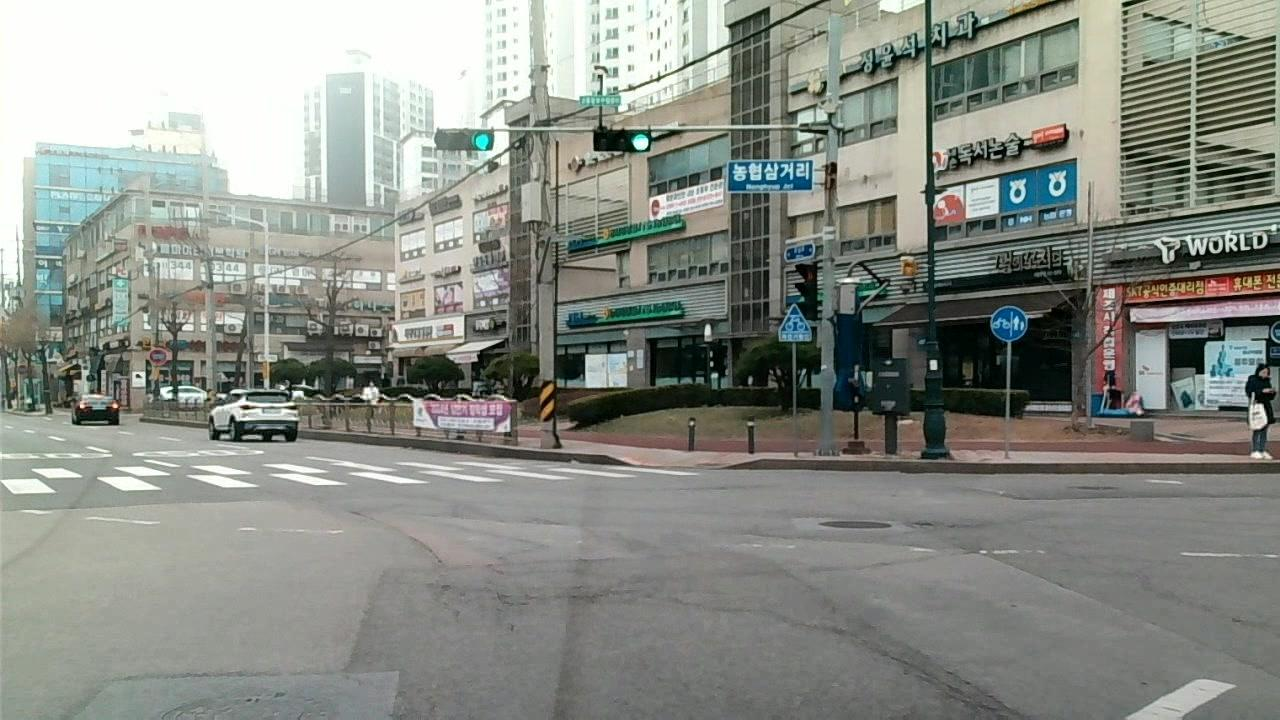banner: (854, 639, 1009, 720), (384, 527, 471, 593), (489, 579, 670, 609), (974, 547, 1080, 596), (112, 667, 354, 684), (790, 551, 924, 577), (2, 499, 181, 517), (1020, 490, 1257, 501)
